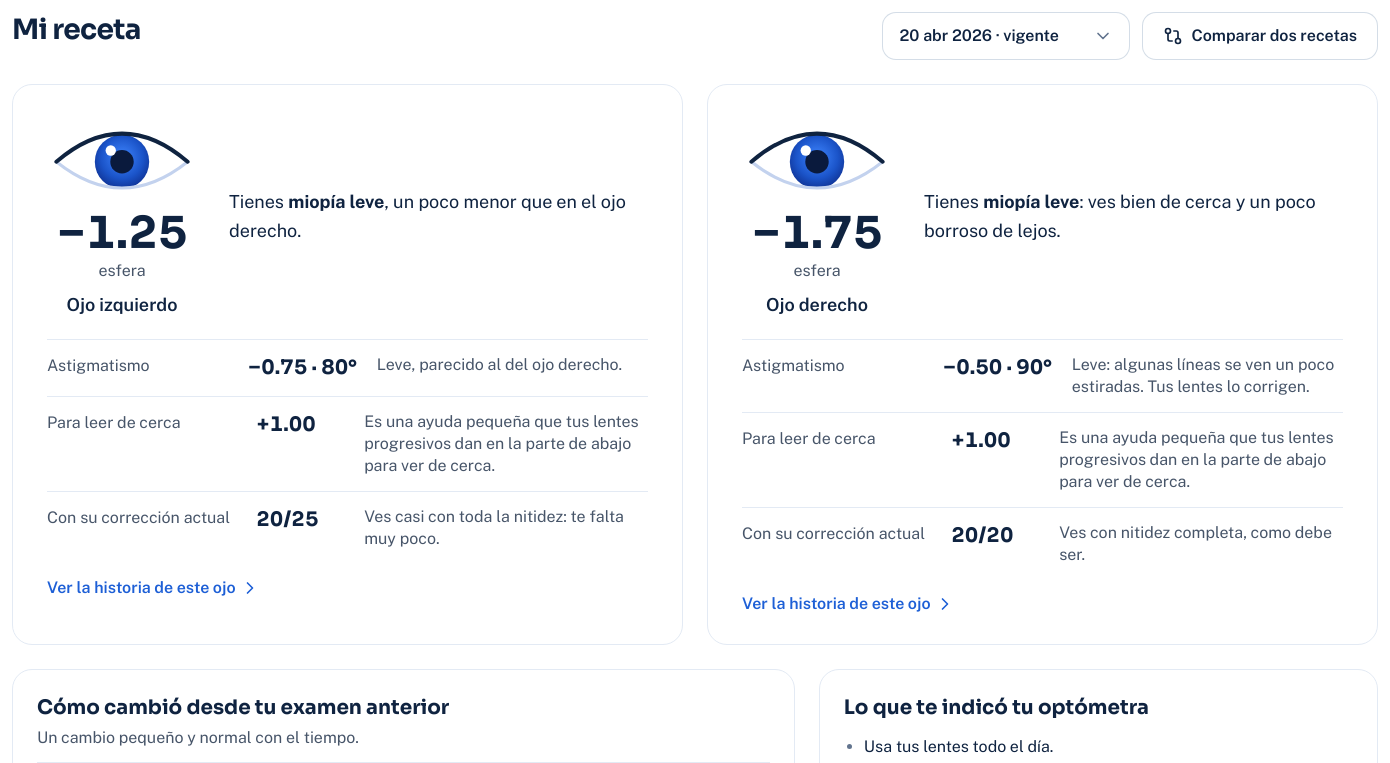
Test: La vista completa de una receta (selector, antes → ahora, indicaciones) › el filtro por año del selector deja solo las recetas de ese año
Click the button with aria-label "Elegir otra receta" at [1006, 36], box left=882, top=12, right=1130, bottom=60
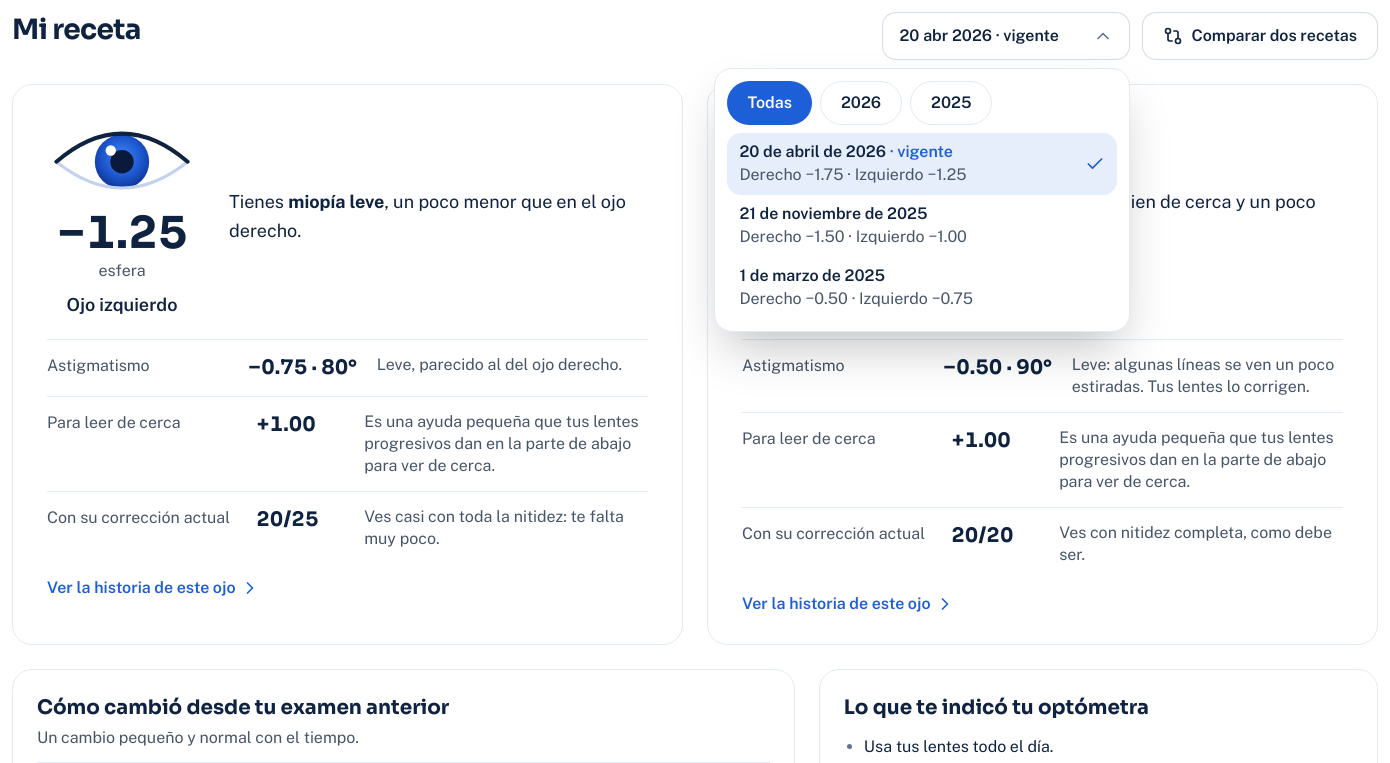
Click the button "2026" at [861, 103], box left=820, top=81, right=902, bottom=125
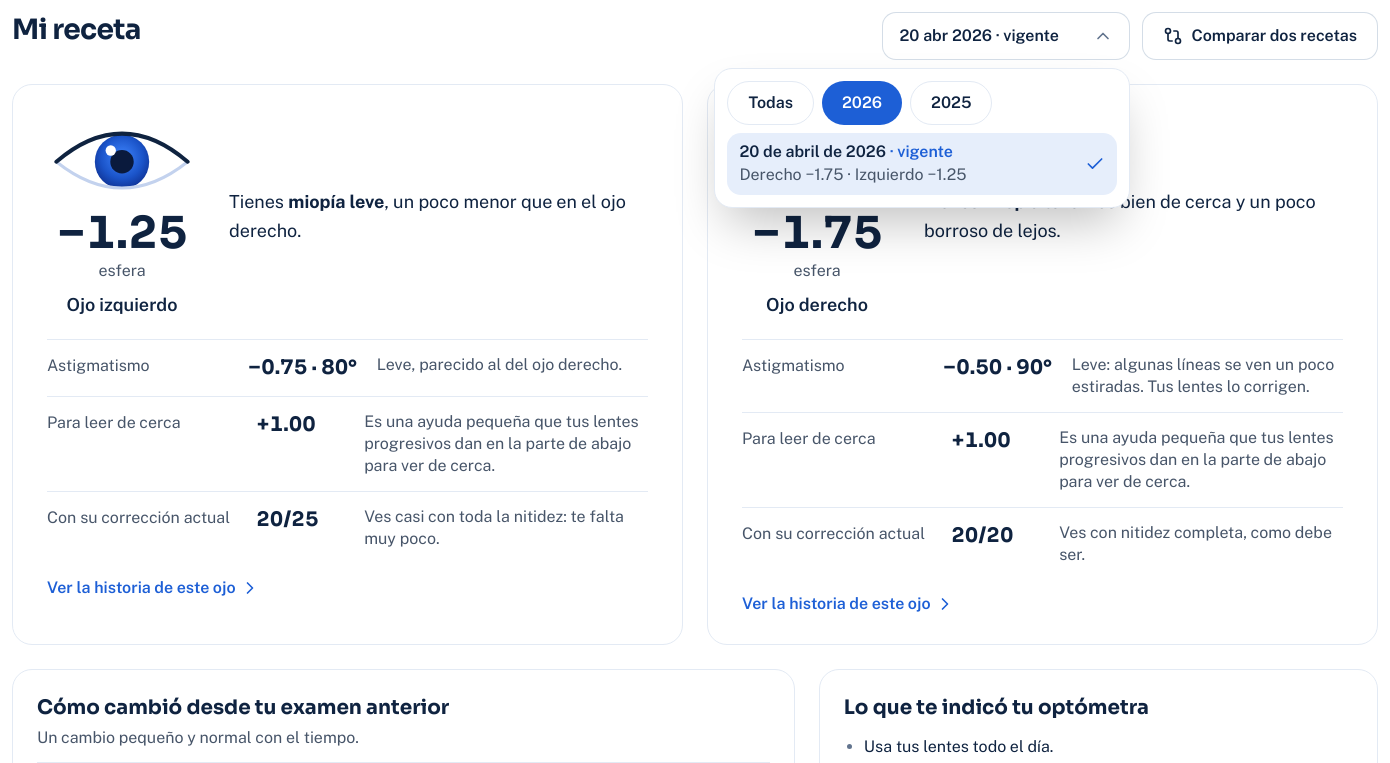
Now the number of options is 1, box left=728, top=133, right=1118, bottom=195
Click the button "2025" at [951, 103], box left=910, top=81, right=992, bottom=125
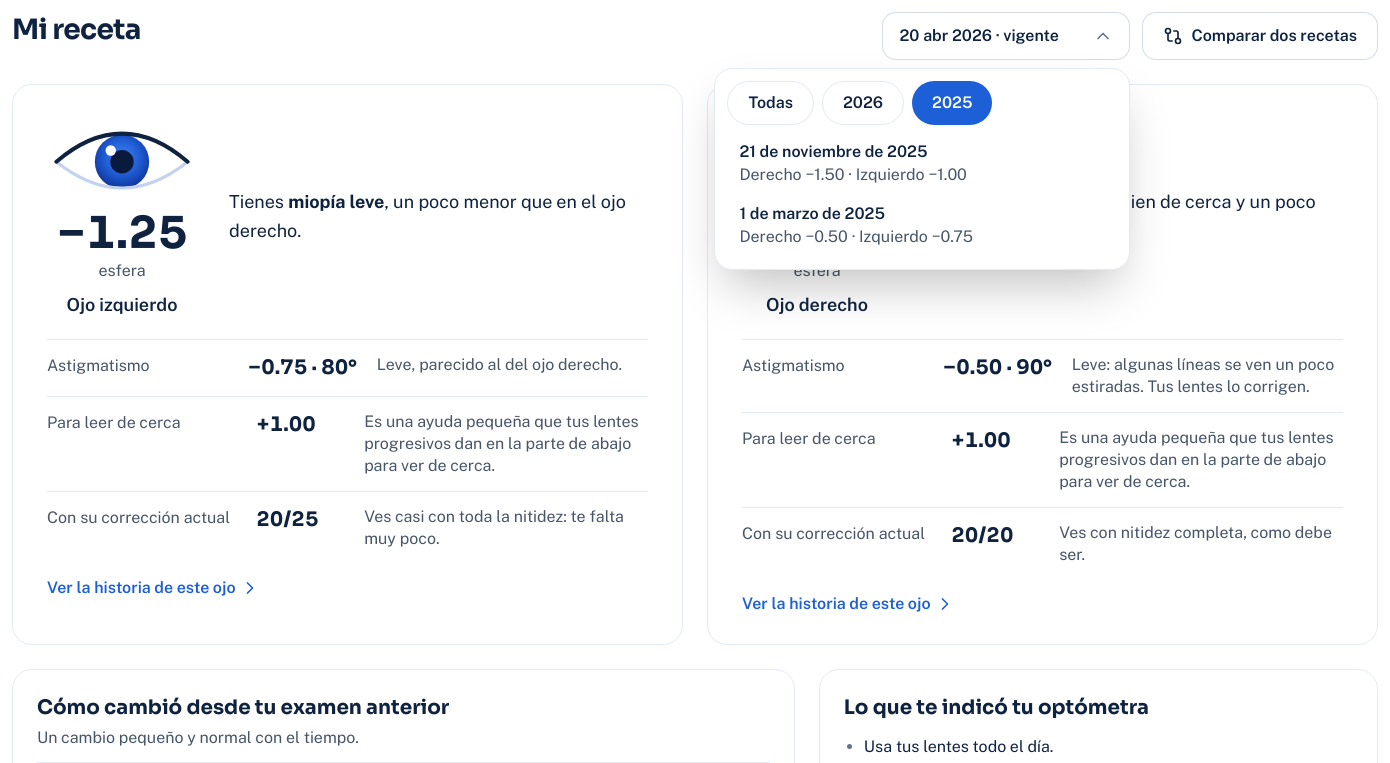
Now the number of options is 2, box left=728, top=133, right=1118, bottom=195; left=728, top=195, right=1118, bottom=257
